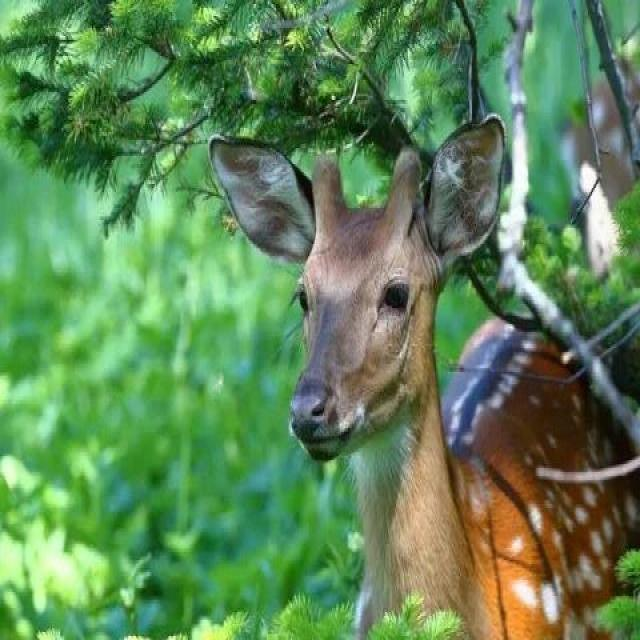deer: (205, 77, 640, 640)
